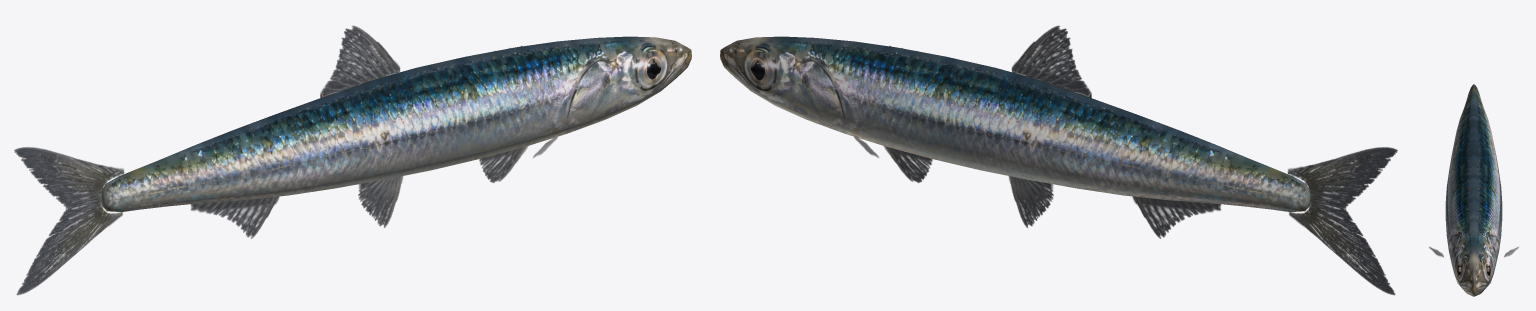
The model's file is katakuchi_lo.glb.
3 views of the same model, side by side, from view 1: azimuth 30°, elevation 25°; view 2: azimuth 150°, elevation 25°; view 3: azimuth 270°, elevation 25° (orthographic). The views are drawn at different scales.
Visible parts, largest first — view 1: katakuchi; view 2: katakuchi; view 3: katakuchi.
Boxes of the visible parts, x1=… form: katakuchi: x1=14, y1=25, x2=691, y2=295; katakuchi: x1=720, y1=25, x2=1397, y2=295; katakuchi: x1=1429, y1=84, x2=1518, y2=296.
Size of the model in its own units: 0.1302 by 0.0386 by 0.0232.
Materials: 1 (1 with a texture image).
